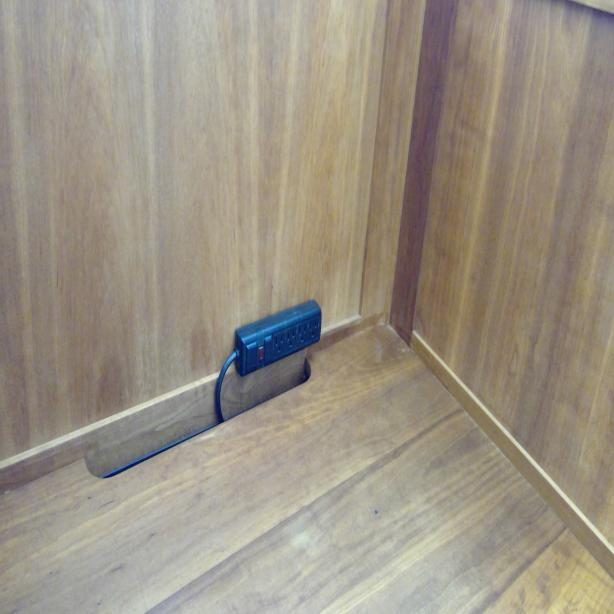typeb: (285, 324, 296, 352), (308, 316, 319, 340), (274, 331, 284, 355), (298, 323, 308, 346)
